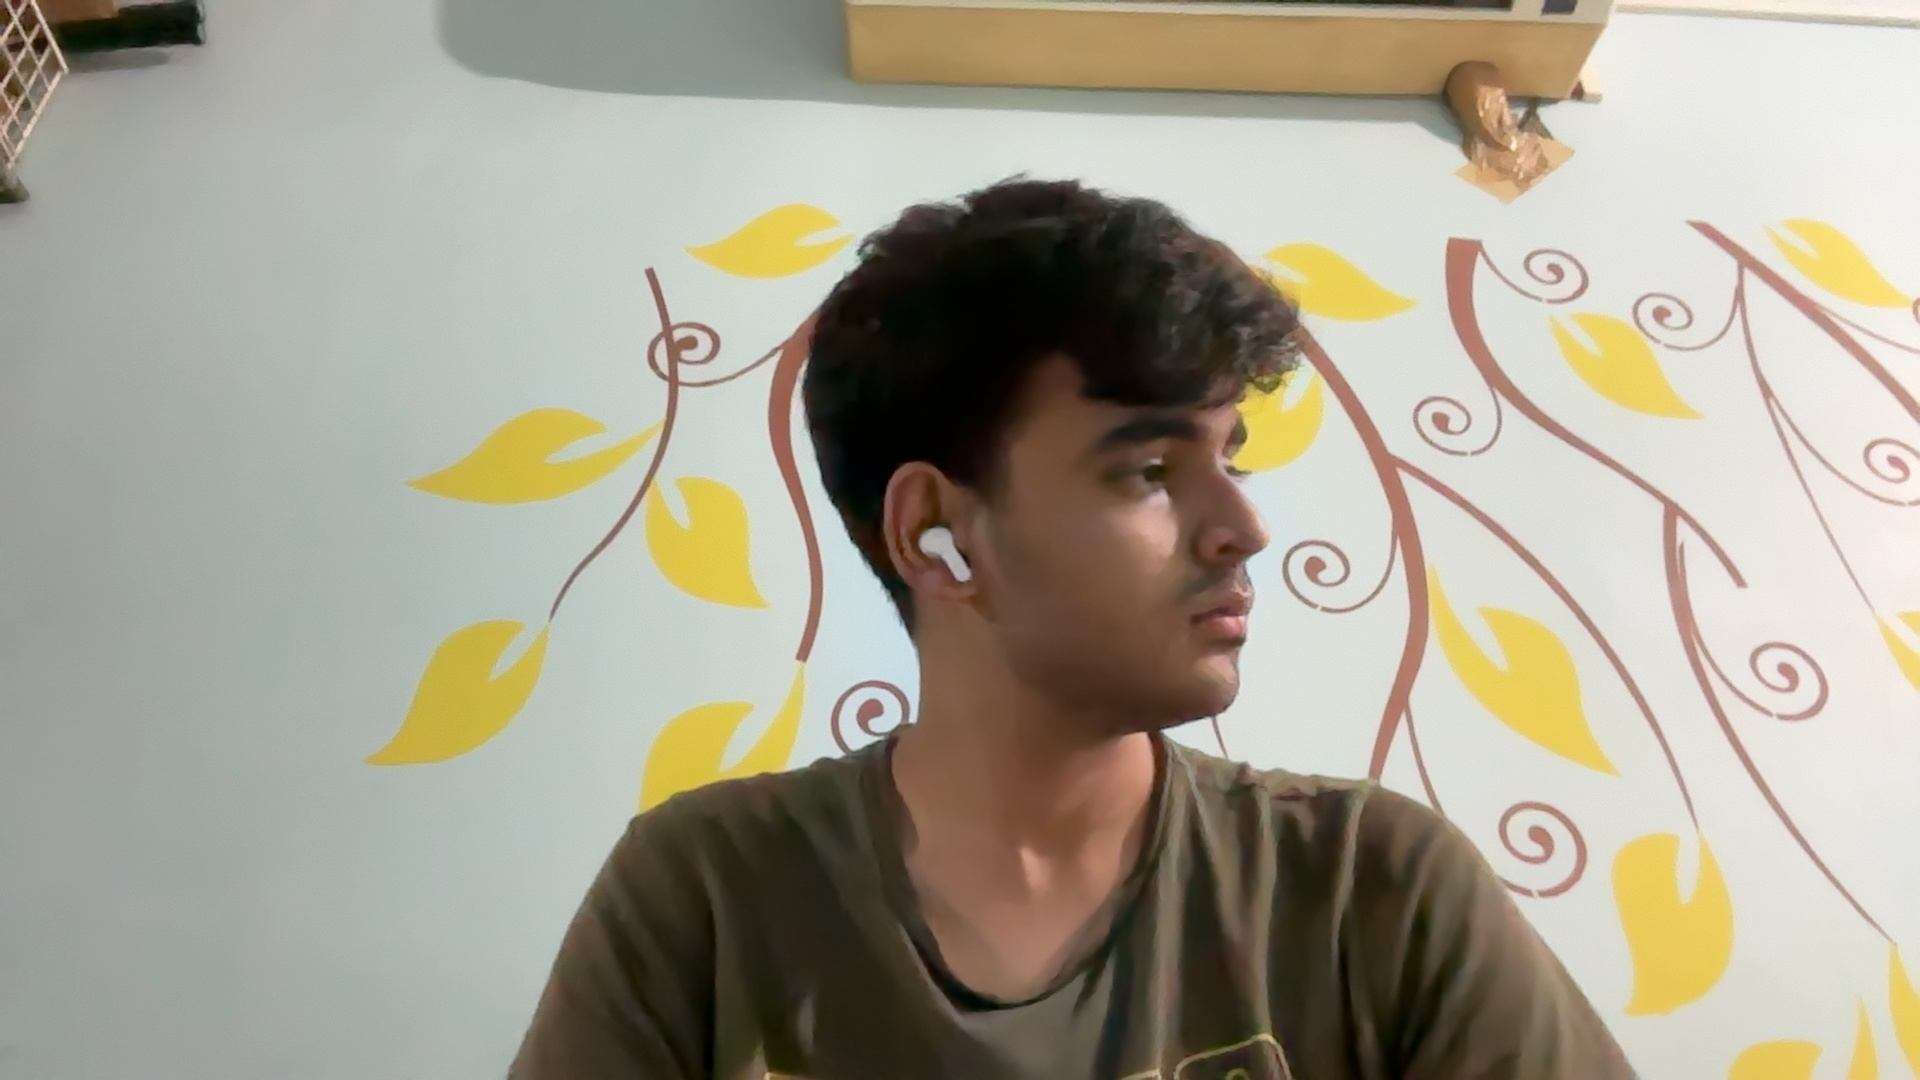No Mask: (993, 495, 1284, 747)
